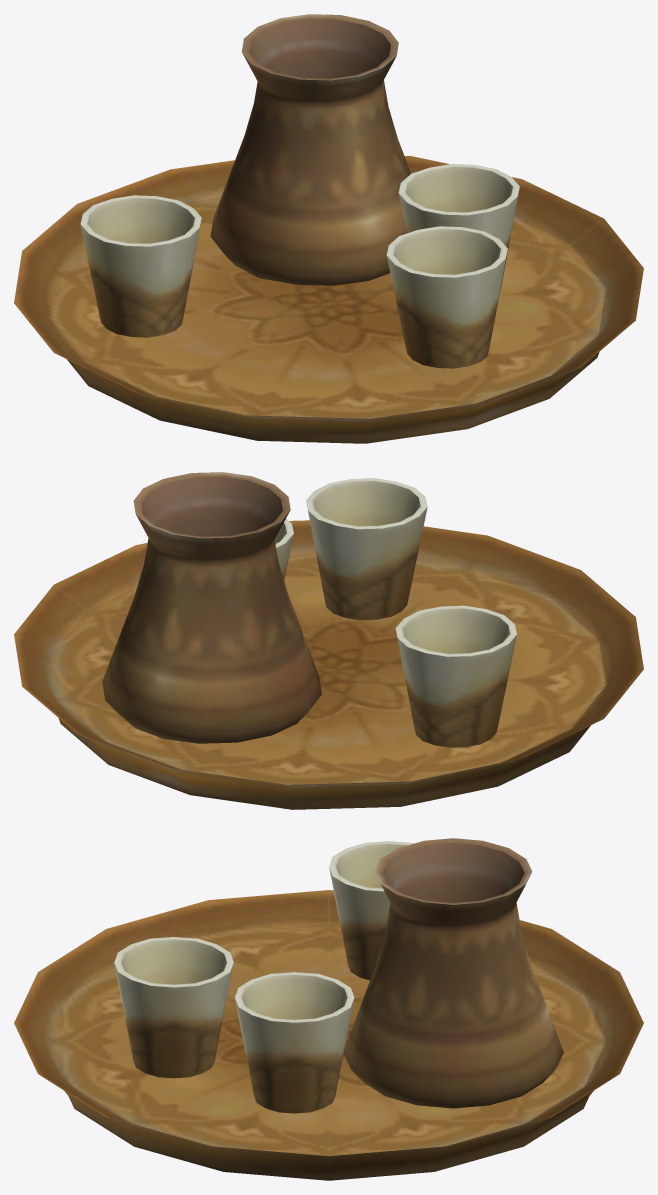
The model's file is Homeworld_Interior_Xm_Decoration_Prop_Ware_01_Vo.fbx.
3 renders of one model, top to bottom at view 1: azimuth 30°, elevation 25°; view 2: azimuth 150°, elevation 25°; view 3: azimuth 270°, elevation 25°, orthographic.
Visible parts, largest first — view 1: Indoor_Xm_Prop_Barbecue_Decoration_13_Vo, Indoor_Xm_Prop_Barbecue_Decoration_71_Vo, Indoor_Xm_Prop_Barbecue_Decoration_71_Vo (1), Indoor_Xm_Prop_Barbecue_Decoration_71_Vo (2); view 2: Indoor_Xm_Prop_Barbecue_Decoration_13_Vo, Indoor_Xm_Prop_Barbecue_Decoration_71_Vo, Indoor_Xm_Prop_Barbecue_Decoration_71_Vo (1), Indoor_Xm_Prop_Barbecue_Decoration_71_Vo (2); view 3: Indoor_Xm_Prop_Barbecue_Decoration_13_Vo, Indoor_Xm_Prop_Barbecue_Decoration_71_Vo (2), Indoor_Xm_Prop_Barbecue_Decoration_71_Vo (1), Indoor_Xm_Prop_Barbecue_Decoration_71_Vo.
Part boxes in pixels (x1,y1,x2,y2): Indoor_Xm_Prop_Barbecue_Decoration_13_Vo: (14, 14, 643, 443); Indoor_Xm_Prop_Barbecue_Decoration_71_Vo: (80, 195, 201, 337); Indoor_Xm_Prop_Barbecue_Decoration_71_Vo (1): (386, 226, 507, 368); Indoor_Xm_Prop_Barbecue_Decoration_71_Vo (2): (398, 164, 519, 291); Indoor_Xm_Prop_Barbecue_Decoration_13_Vo: (14, 472, 643, 809); Indoor_Xm_Prop_Barbecue_Decoration_71_Vo: (395, 605, 516, 747); Indoor_Xm_Prop_Barbecue_Decoration_71_Vo (1): (306, 478, 427, 620); Indoor_Xm_Prop_Barbecue_Decoration_71_Vo (2): (275, 519, 293, 580); Indoor_Xm_Prop_Barbecue_Decoration_13_Vo: (14, 838, 643, 1180); Indoor_Xm_Prop_Barbecue_Decoration_71_Vo (2): (235, 972, 354, 1113); Indoor_Xm_Prop_Barbecue_Decoration_71_Vo (1): (114, 937, 233, 1078); Indoor_Xm_Prop_Barbecue_Decoration_71_Vo: (329, 841, 413, 980).
Bounding box in the file's own units: 0.6426 × 0.2464 × 0.6426.
